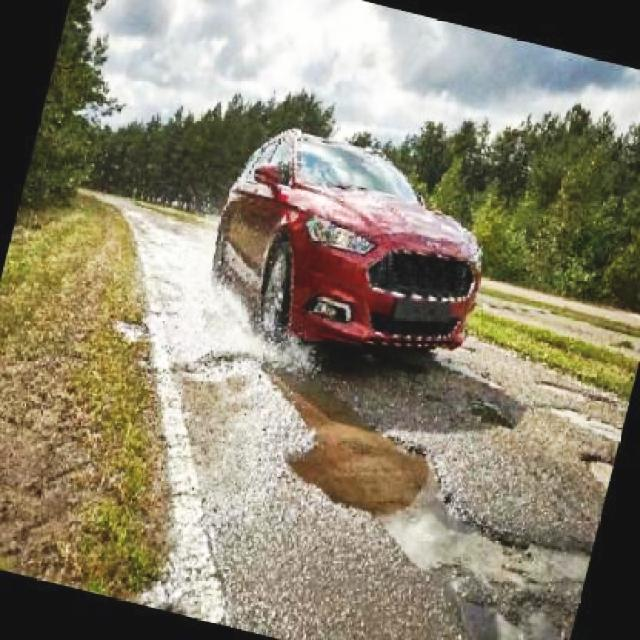pothole: (256, 349, 442, 520), (458, 391, 517, 431), (585, 443, 620, 488)
